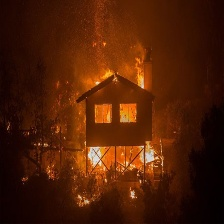fire: (87, 68, 121, 89), (82, 143, 106, 170), (141, 144, 162, 172), (133, 55, 150, 88), (75, 191, 95, 210), (129, 187, 139, 202)
